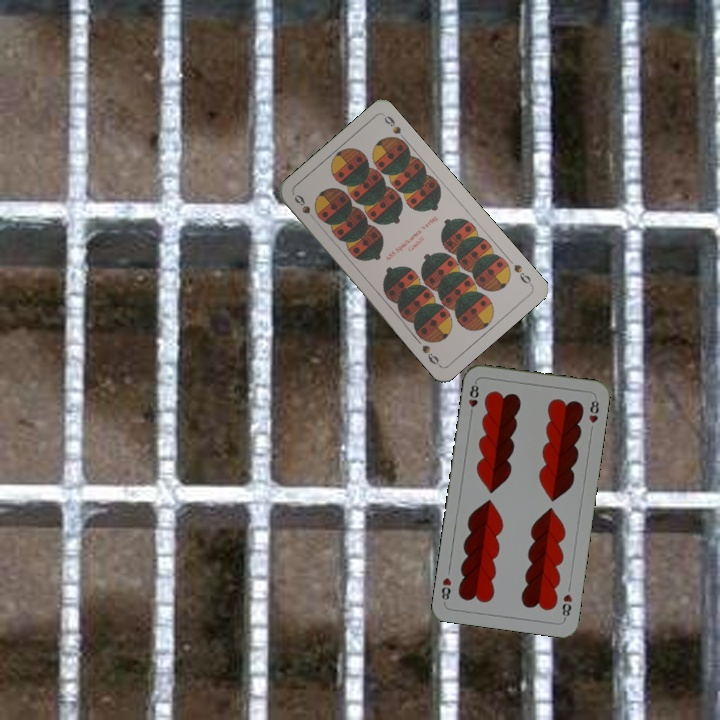H8: (465, 378, 481, 419), (558, 590, 575, 622)
S9: (290, 191, 320, 225), (509, 260, 535, 288)
